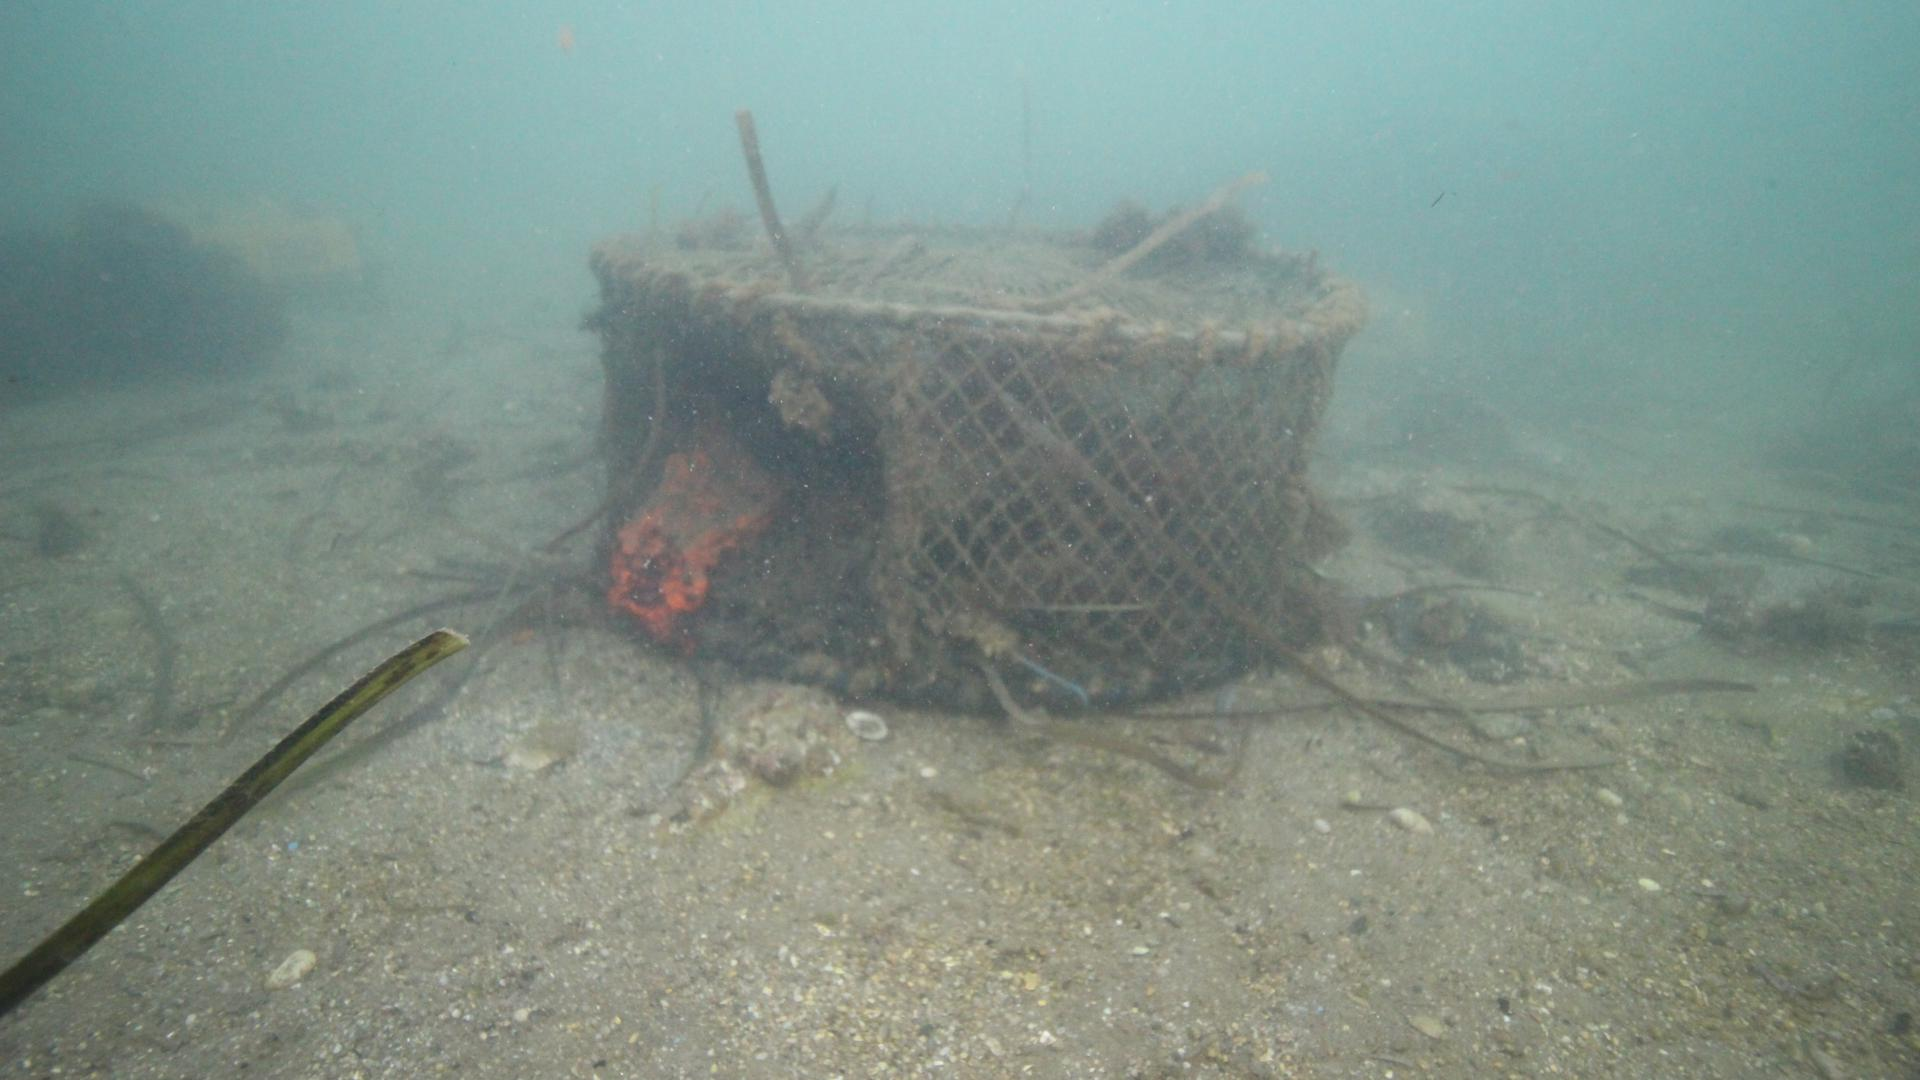circular fish trap: (584, 219, 1370, 712)
